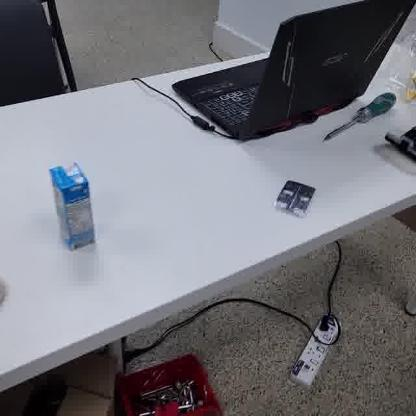Others: (40, 156, 102, 258)
